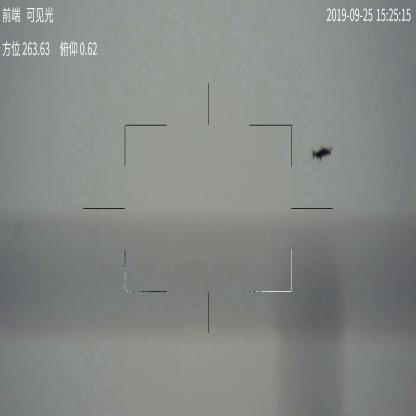uav: (312, 148, 334, 163)
